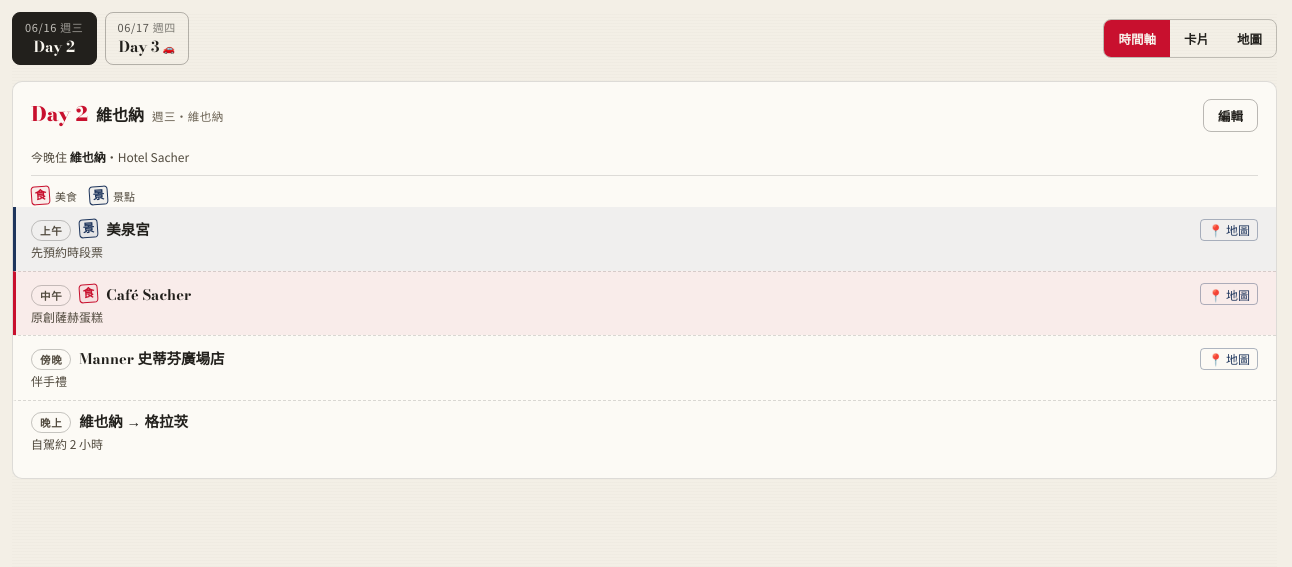
Test: DailyPlan 提交回饋 › 提交失敗時，錯誤以帶 role 的醒目橫幅呈現
Click the button "編輯".
click(1230, 116)  # box [1203, 99, 1258, 132]
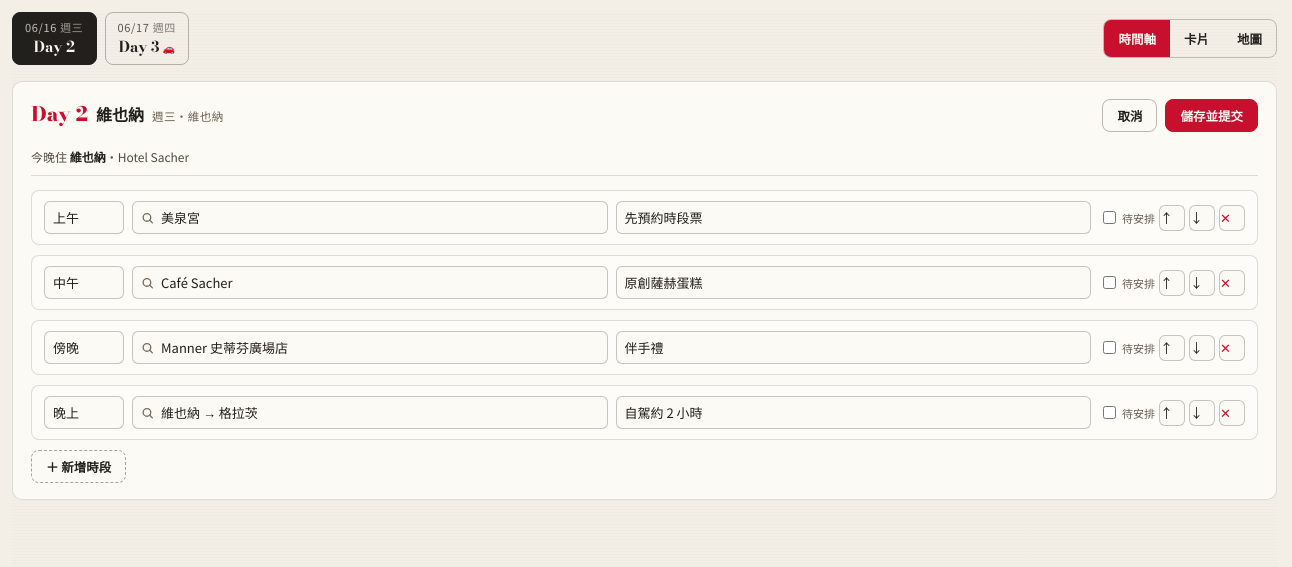
Click the button "儲存並提交".
click(1212, 116)  # box [1166, 99, 1258, 132]
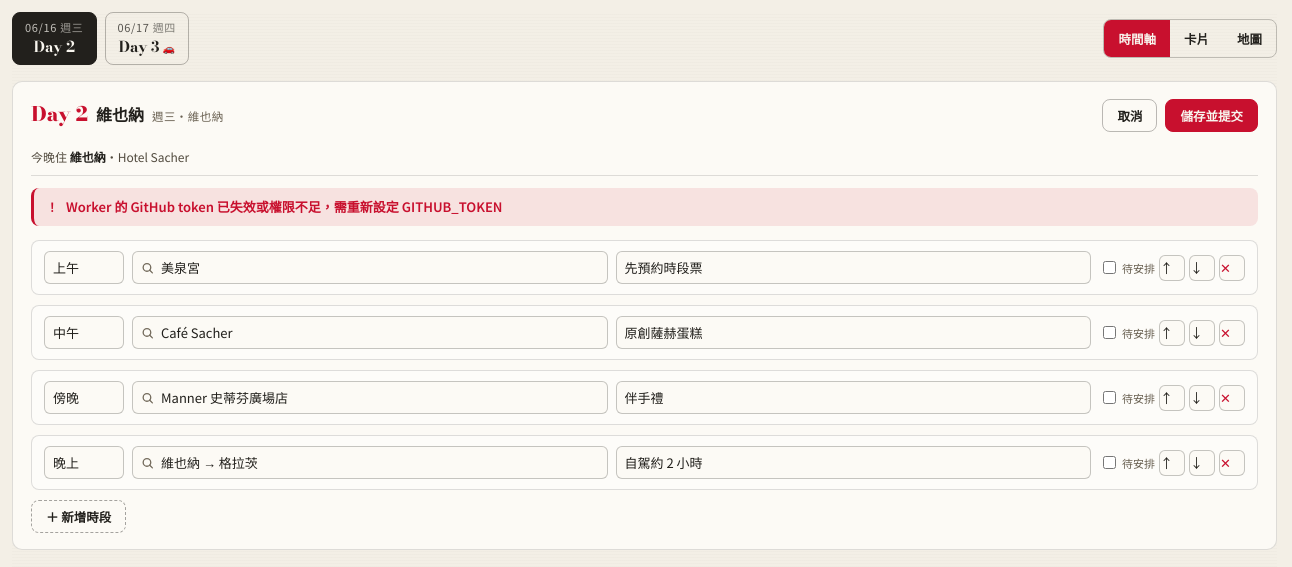
Check: the message shows "GITHUB_TOKEN", box [66, 197, 502, 216]
